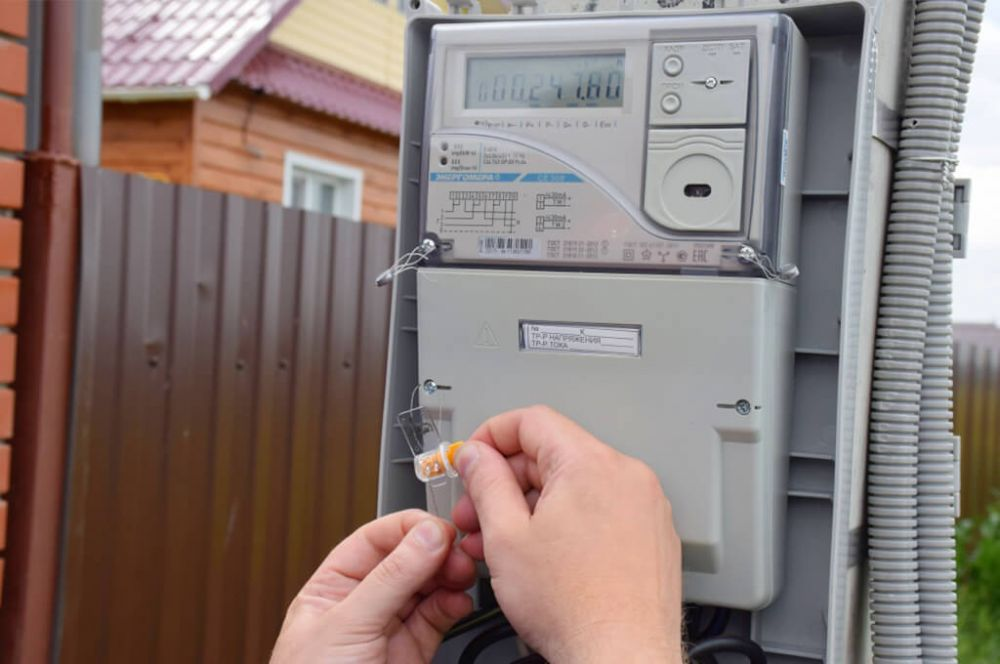counter: (412, 16, 792, 476)
counter_screen: (458, 49, 629, 110)
